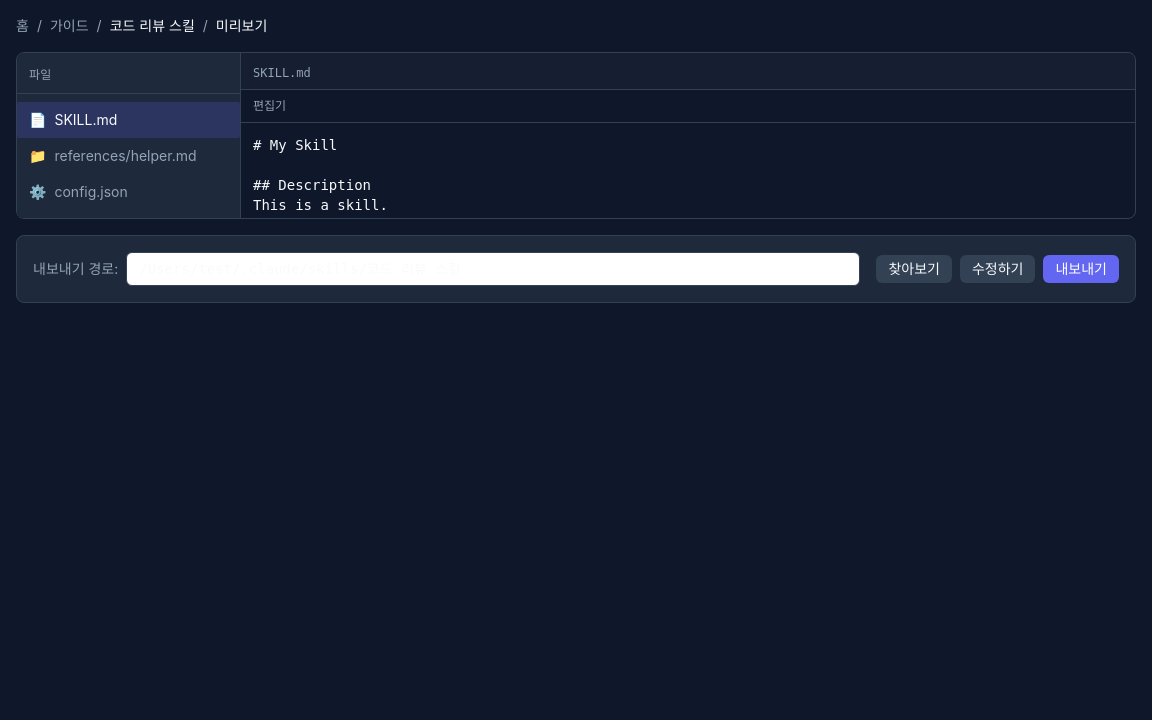
Preview › 내보내기 성공 시 성공 메시지를 표시한다
Click the button "내보내기". click: x=1081, y=269
box: [1044,255,1119,283]
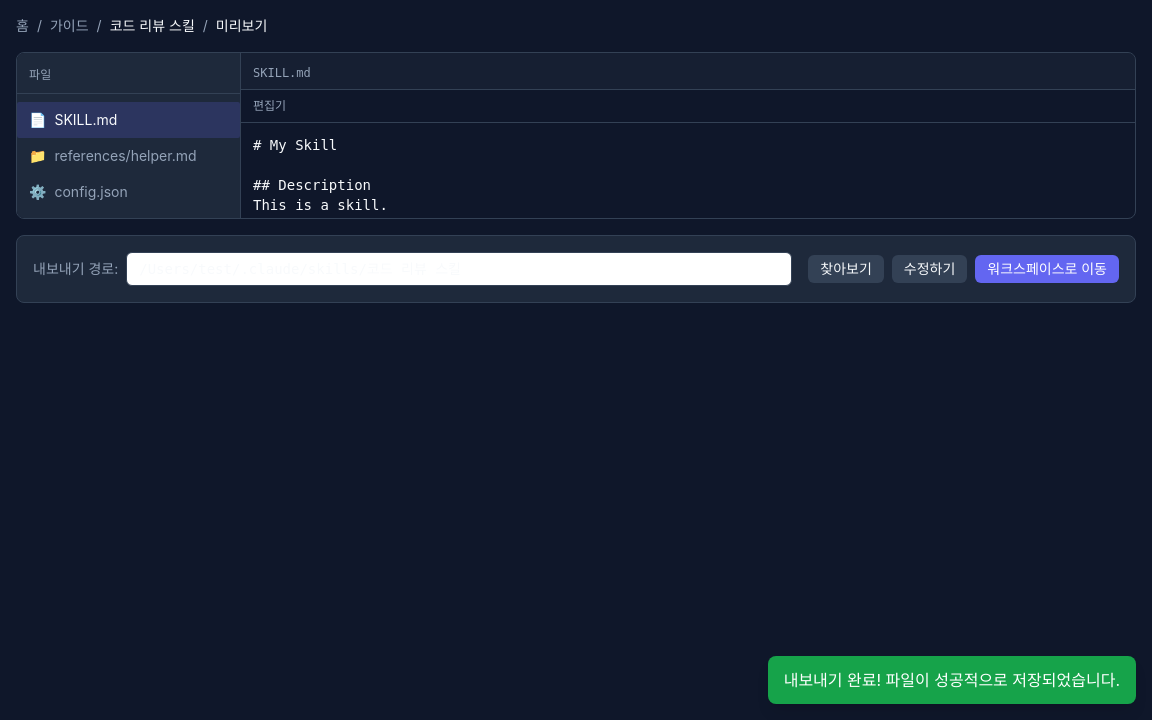
Result: the text "내보내기 완료! 파일이 성공적으로 저장되었습니다." is shown at [768,656,1136,704]
